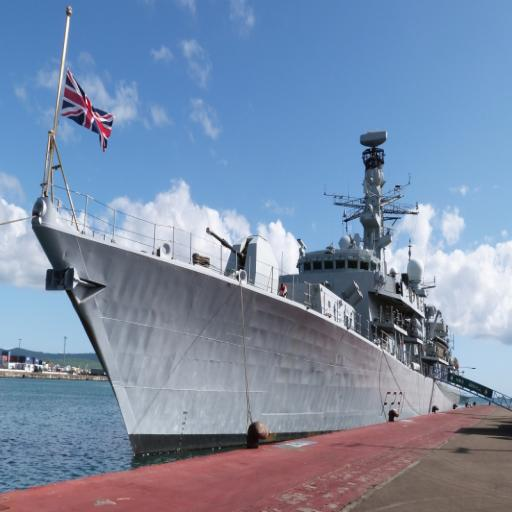Fragata: (32, 129, 510, 467)
